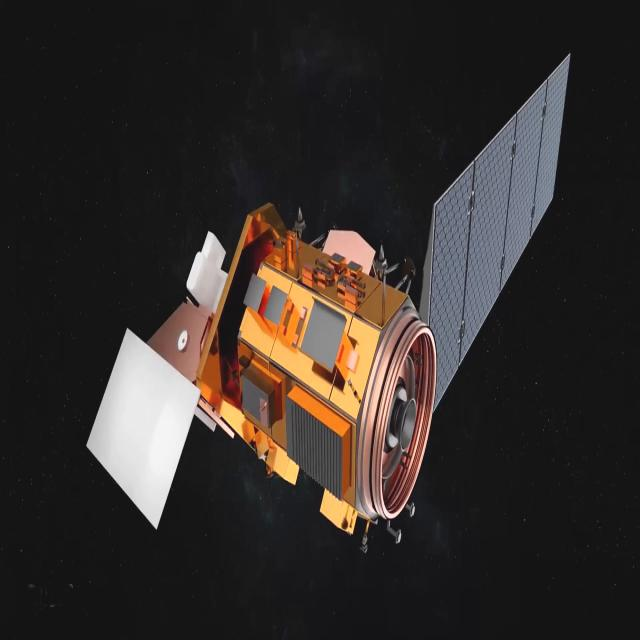medium_debris: (80, 45, 584, 568)
